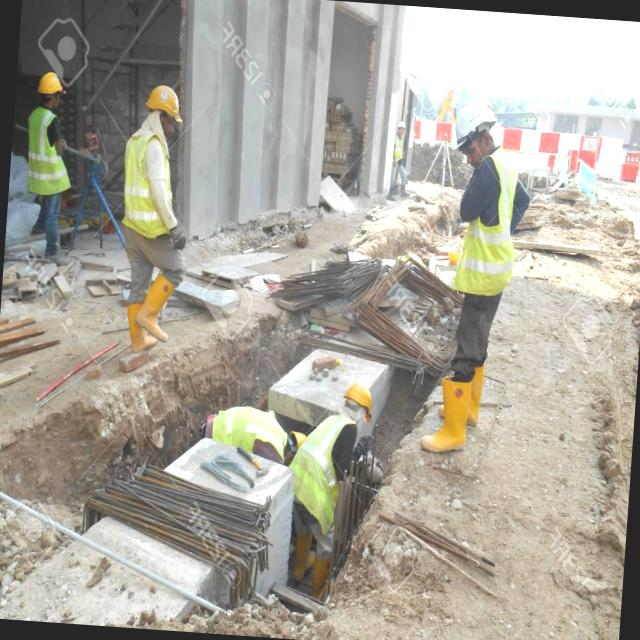helmet: (440, 95, 499, 151), (134, 82, 184, 119), (342, 378, 381, 413), (36, 64, 64, 103)
vest: (444, 152, 518, 308), (288, 403, 351, 527), (120, 132, 176, 244), (13, 103, 74, 203)
